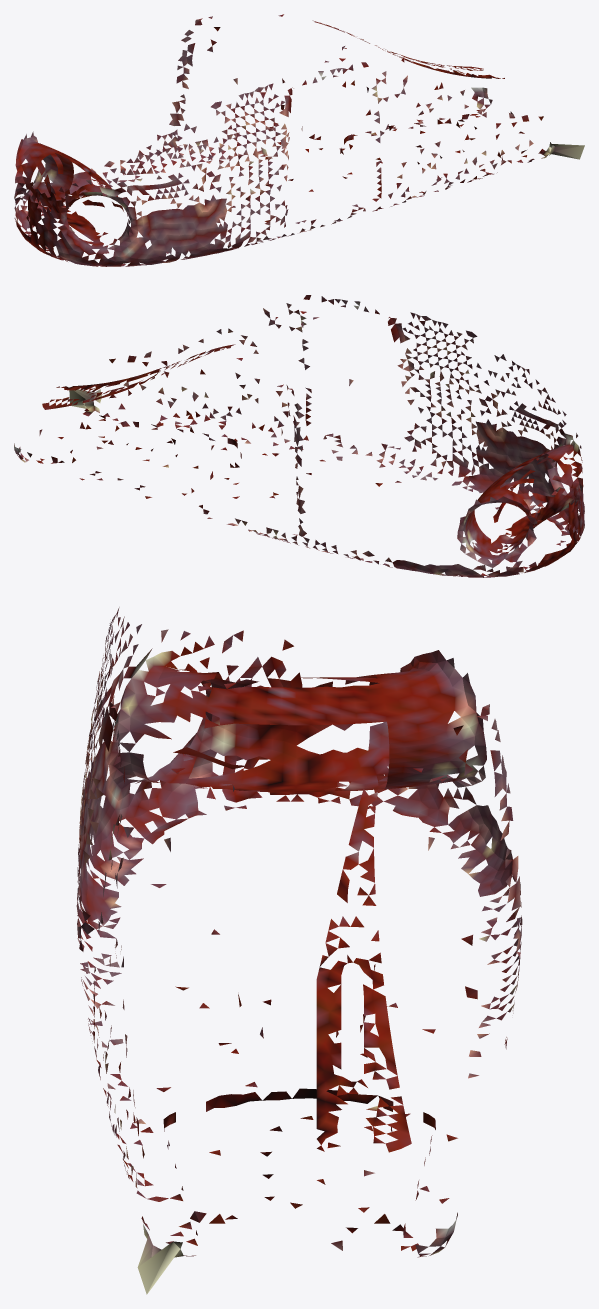
3 renders of one model, top to bottom at view 1: azimuth 30°, elevation 25°; view 2: azimuth 150°, elevation 25°; view 3: azimuth 270°, elevation 25°, orthographic. The views are drawn at different scales.
Bounding box in the file's own units: 2.01 × 0.592 × 0.75.
